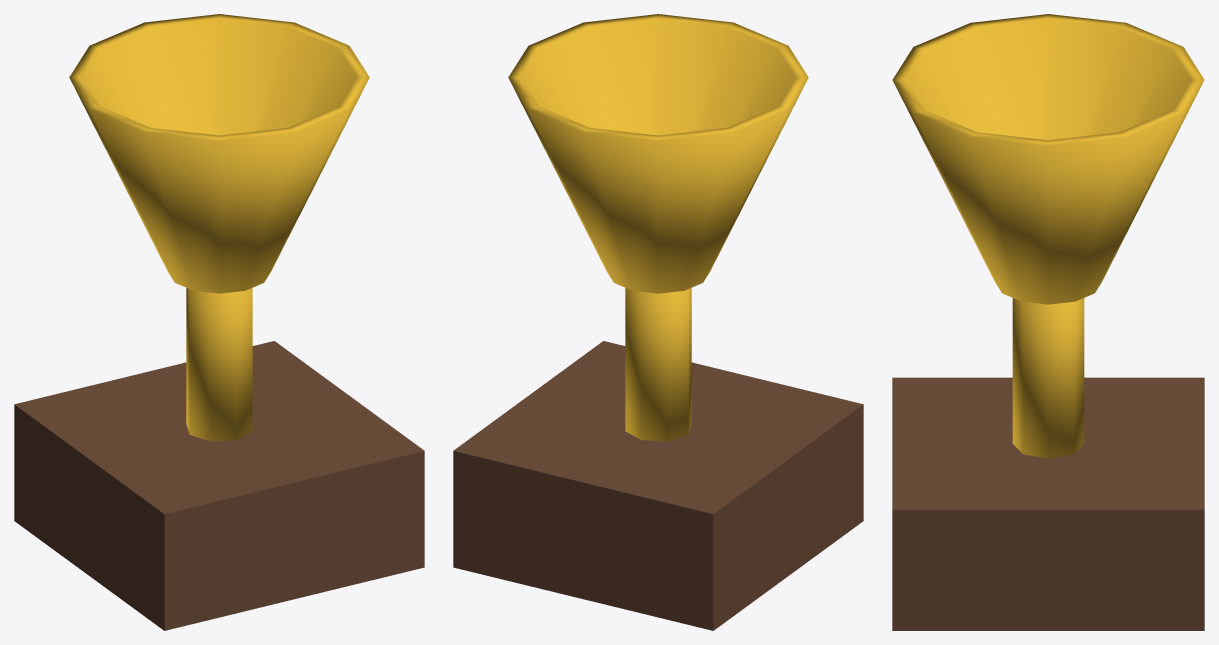
The model's file is MiniTrophy.fbx.
3 renders of one model, left to right at view 1: azimuth 30°, elevation 25°; view 2: azimuth 150°, elevation 25°; view 3: azimuth 270°, elevation 25°, orthographic. The views are drawn at different scales.
Visible parts, largest first — view 1: MiniTrophyBody; view 2: MiniTrophyBody; view 3: MiniTrophyBody.
Part boxes in pixels (box(x1,y1,x2,y2)): MiniTrophyBody: box(14, 14, 424, 630); MiniTrophyBody: box(453, 14, 863, 630); MiniTrophyBody: box(892, 14, 1204, 630).
Bounding box in the file's own units: 0.07 × 0.12 × 0.07.
